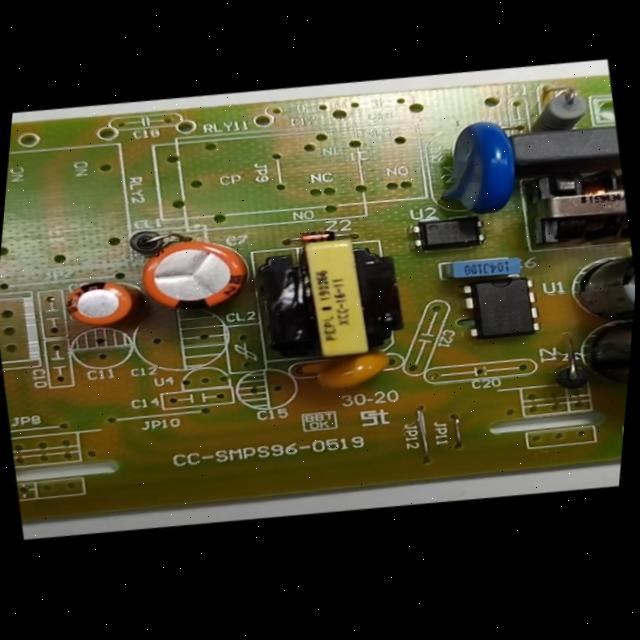Cap1: (127, 224, 265, 327)
Cap2: (57, 266, 148, 339)
Cap3: (554, 242, 636, 331)
Cap4: (560, 309, 633, 401)
MOSFET: (442, 259, 554, 358)
Mov: (419, 106, 541, 232)
Resistor: (516, 78, 604, 141)
Transformer: (233, 214, 419, 387), (517, 150, 637, 259)
